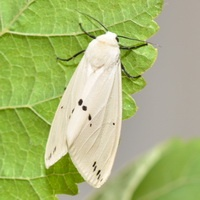insect: (45, 11, 156, 187)
